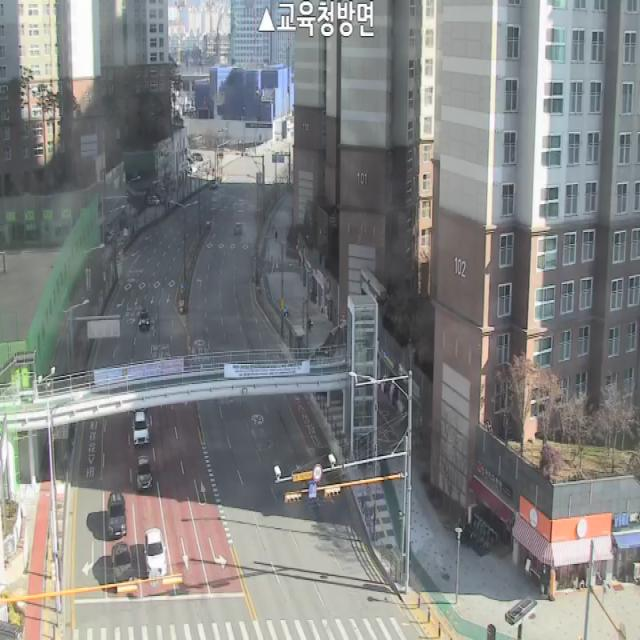Car: (111, 541, 135, 593), (144, 528, 167, 578), (108, 491, 126, 539), (132, 411, 150, 447), (137, 456, 153, 492), (138, 309, 150, 330), (235, 222, 242, 235)
